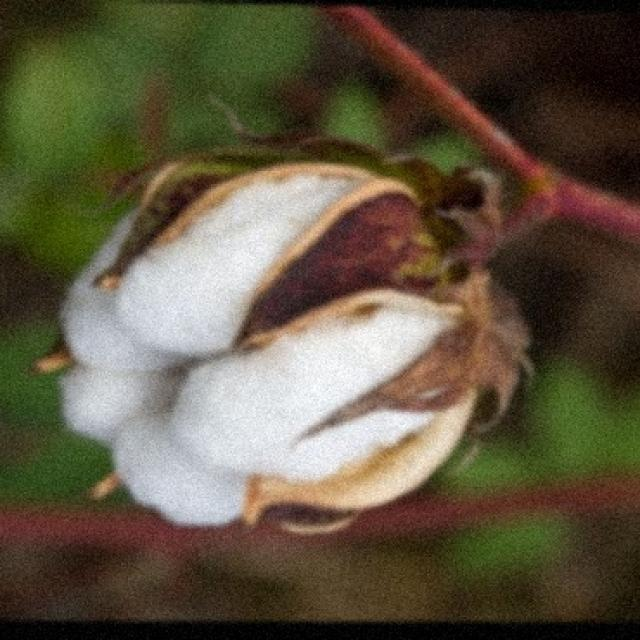Split Cotton Boll: (68, 136, 497, 531)
